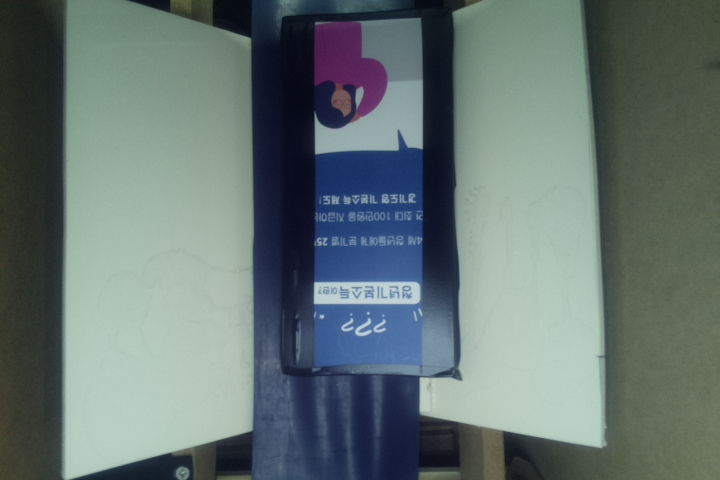book: (280, 5, 456, 376)
